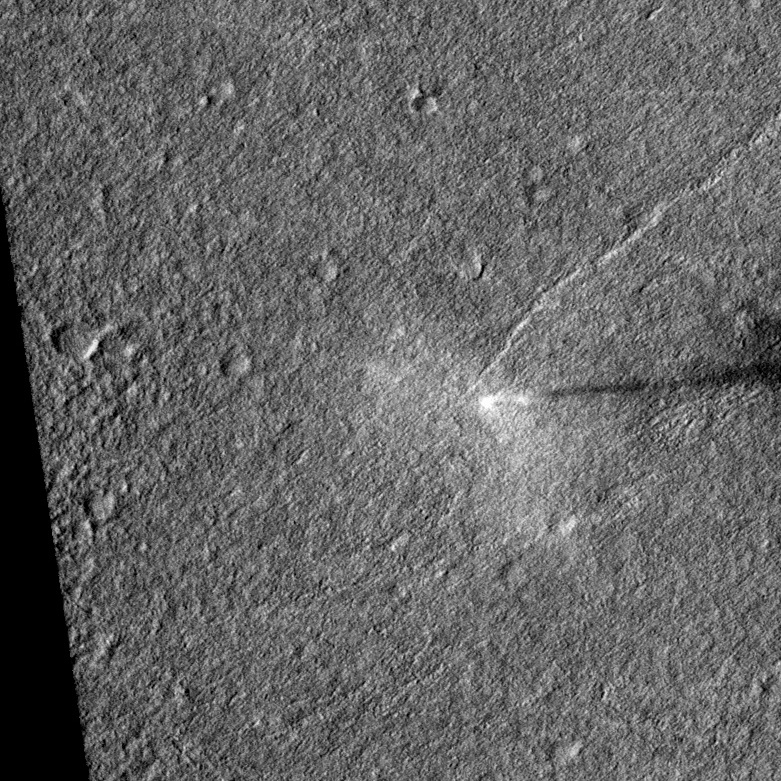dust_devil: (471, 358, 781, 422)
